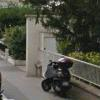Motorcycle: (40, 56, 74, 97)
